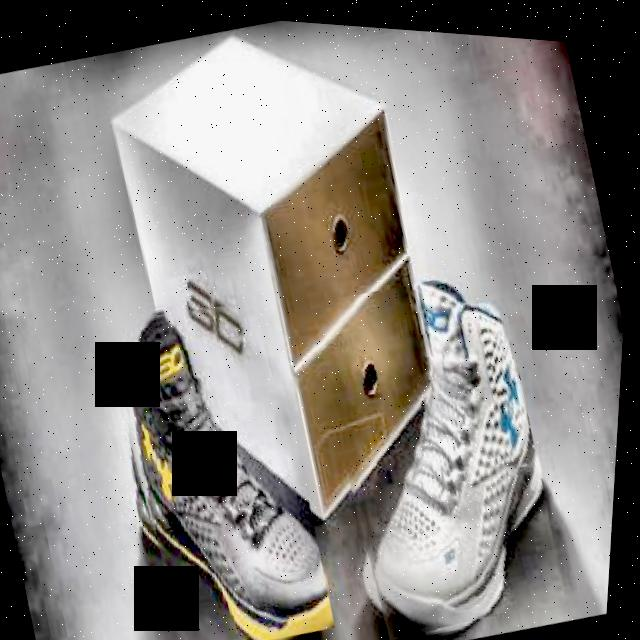shoe: (293, 248, 589, 640), (85, 276, 357, 640)
